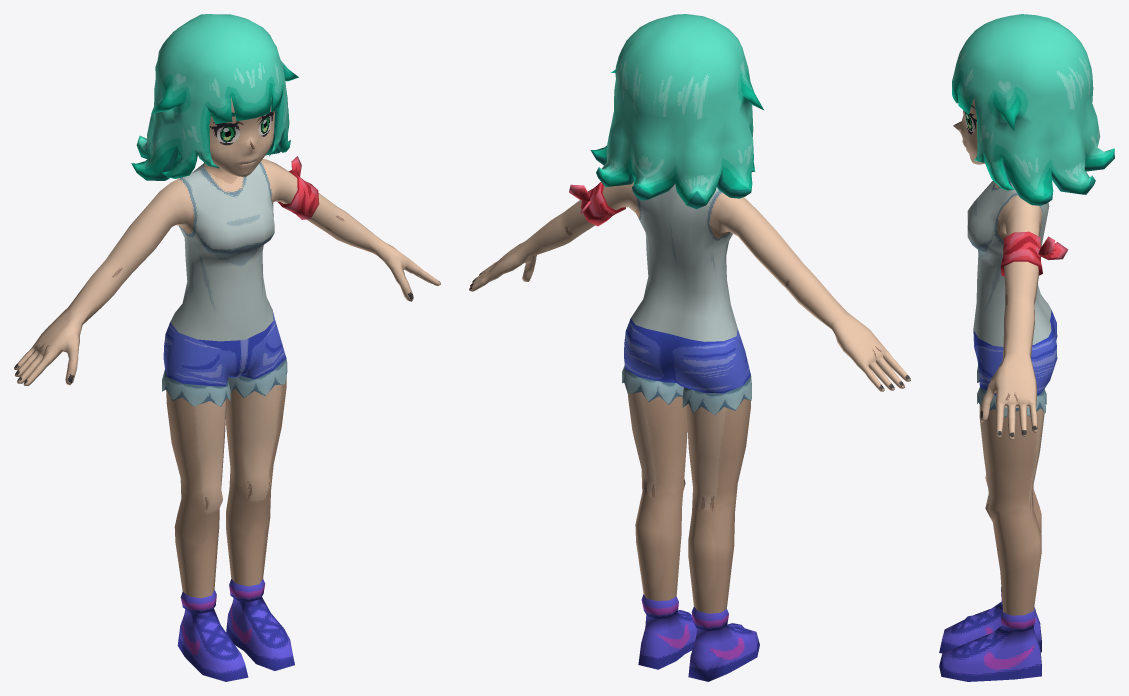
The model's file is handkerchief_lod0.glb.
The picture shows the model from 3 angles, left to right: view 1: azimuth 30°, elevation 25°; view 2: azimuth 150°, elevation 25°; view 3: azimuth 270°, elevation 25°; orthographic projection. The views are drawn at different scales.
Visible parts, largest first — view 1: handkerchief.002 triangulated lod0; view 2: handkerchief.002 triangulated lod0; view 3: handkerchief.002 triangulated lod0.
Boxes of the visible parts, bbox=[...] form: handkerchief.002 triangulated lod0: bbox=[14, 14, 440, 681]; handkerchief.002 triangulated lod0: bbox=[469, 14, 910, 681]; handkerchief.002 triangulated lod0: bbox=[939, 14, 1114, 681].
Bounding box in the file's own units: 1.37 × 1.96 × 0.4887.
Materials: 2 (2 with a texture image).
